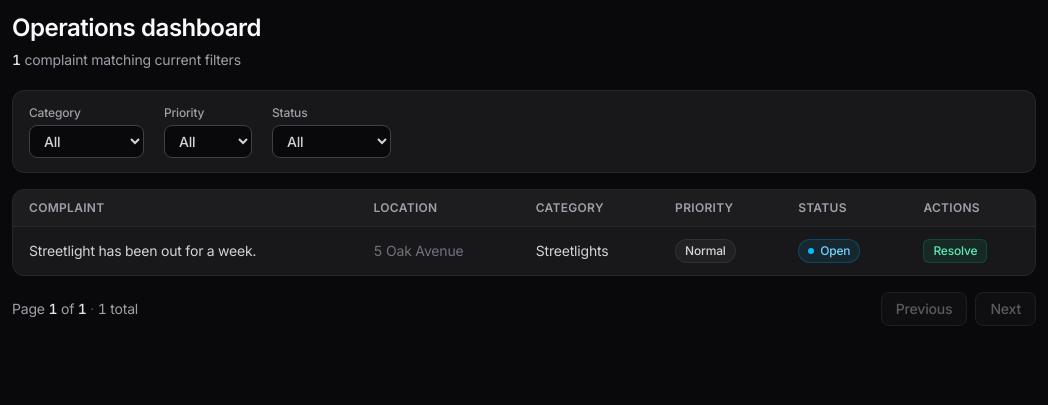
Test case: DashboardPage › renders the backend 409 message verbatim on an illegal transition
The width and height of the screenshot is (1048, 405).
Click the button "Resolve" at point(955, 251), box [923,239,987,263]
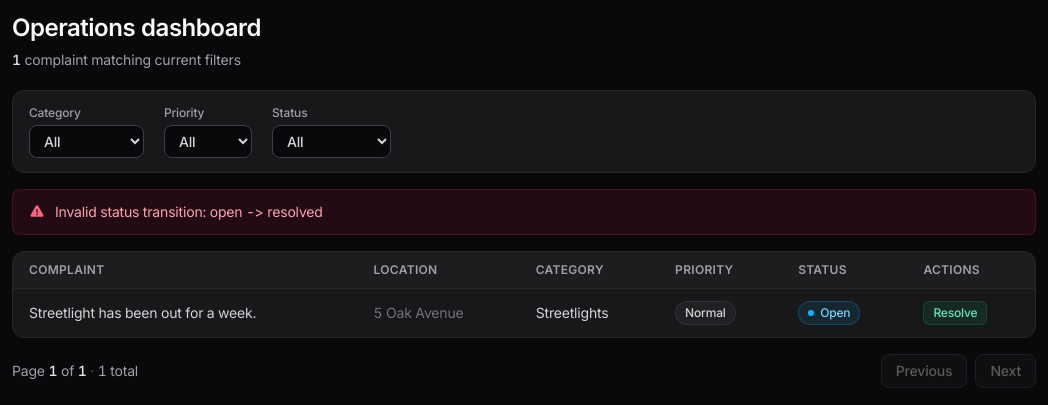
Check: the text "Invalid status transition: open -> resolved" is shown, box [55,202,323,222]
